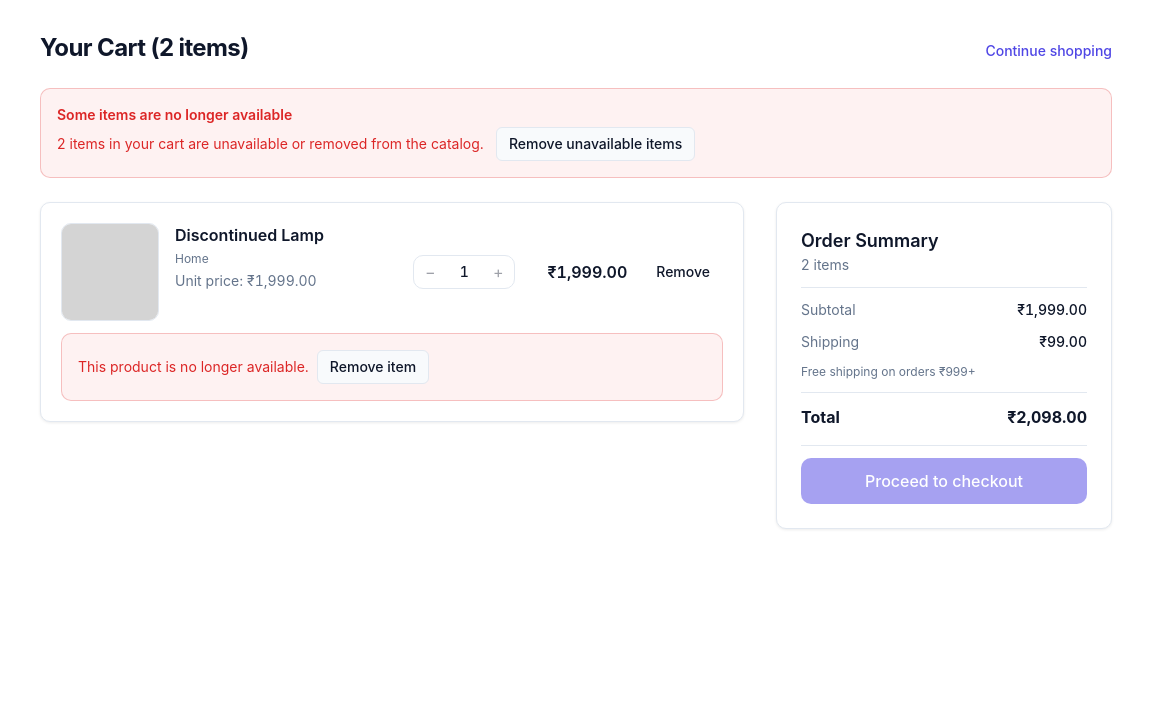
it: CartPage › shows unavailable alert for INACTIVE or NOT_FOUND issues and allows removing them
Expected: the text "Some items are no longer available" is shown, [57, 106, 292, 123]
Expected: the text "This product is no longer available." is shown, [78, 357, 309, 377]
Click the button "Remove unavailable items" at (596, 144), box [496, 127, 695, 161]
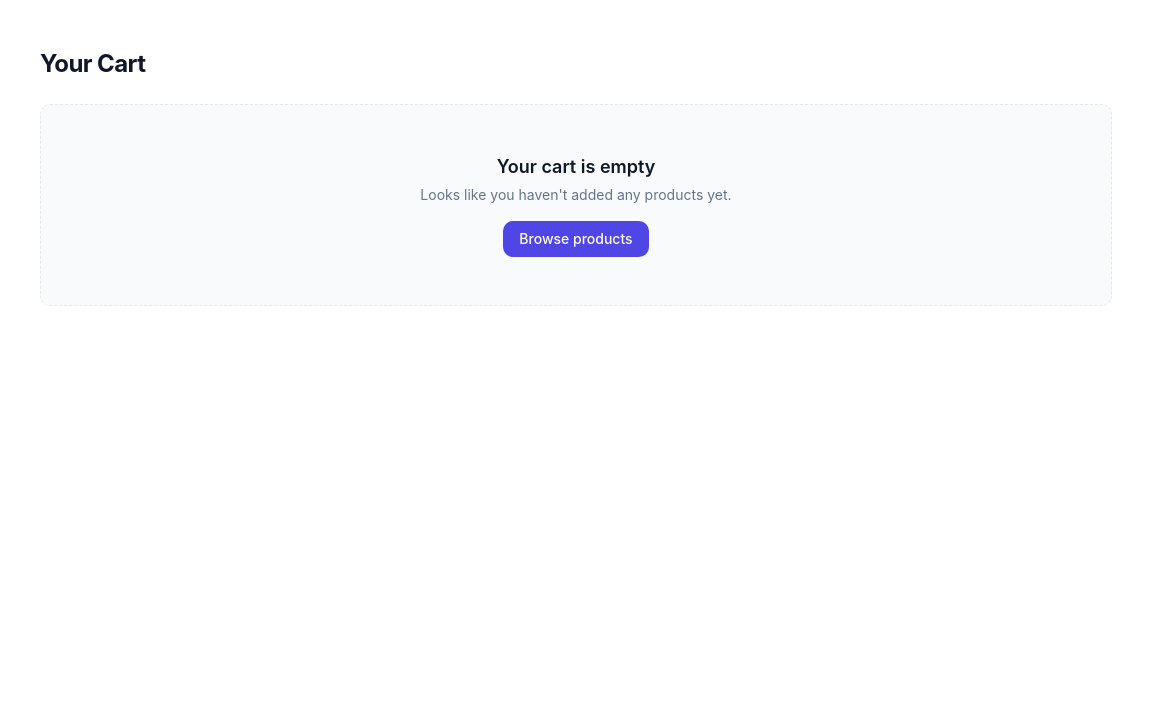
Expected: the heading "Your cart is empty" is shown, [497, 153, 655, 181]
